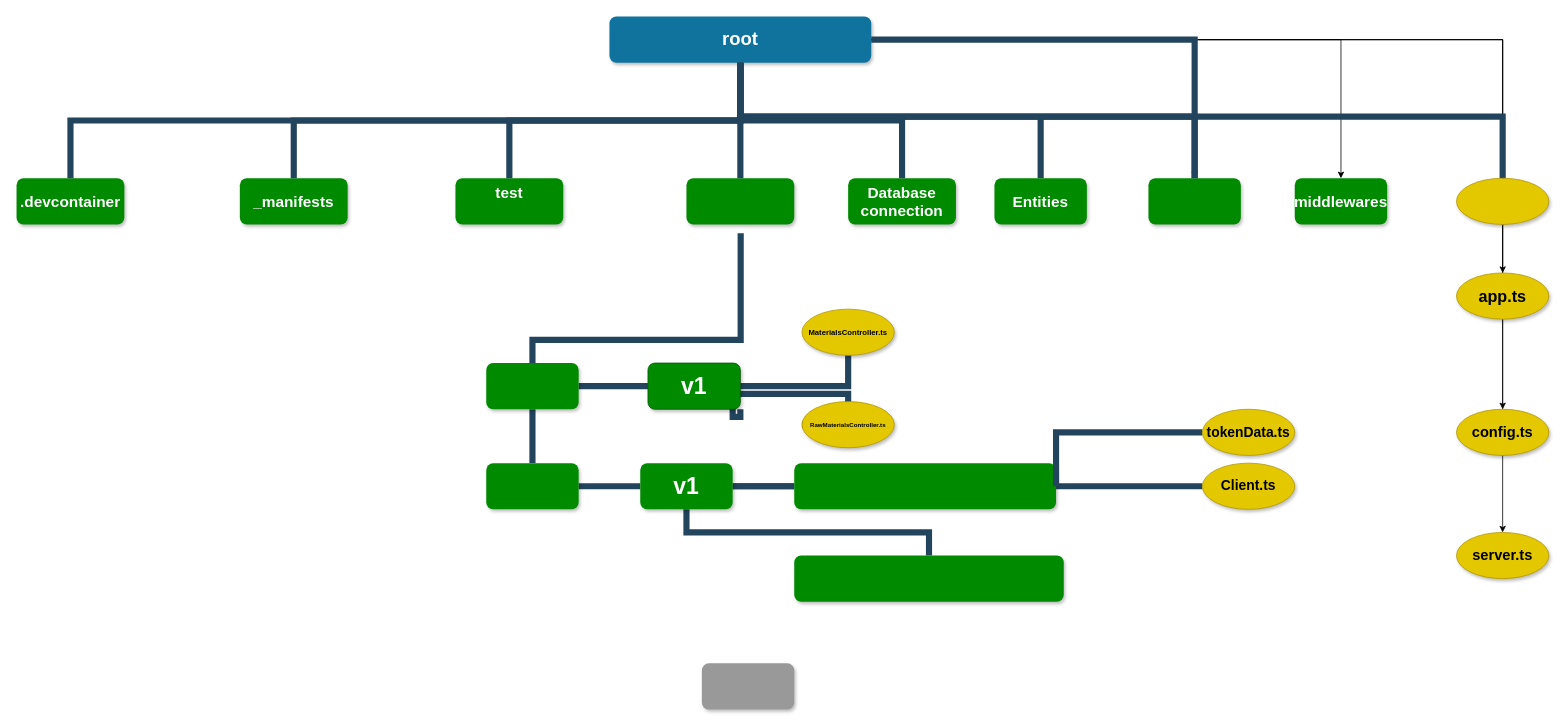
Image size: 1567x728. Some labels were removed from this diagram. Here are the shapes that lost their labels. From the top down, the centre of each, then its label:
At point 740,202: "src".
At point 1195,202: "utils".
At point 1503,202: "Dockerfile".
At point 533,387: "controllers".
At point 533,487: "clients".
At point 925,487: "ApiKeyManagement".
At point 929,579: "MaterialManagement".
At point 748,687: "WORK PACKAGE 5".
